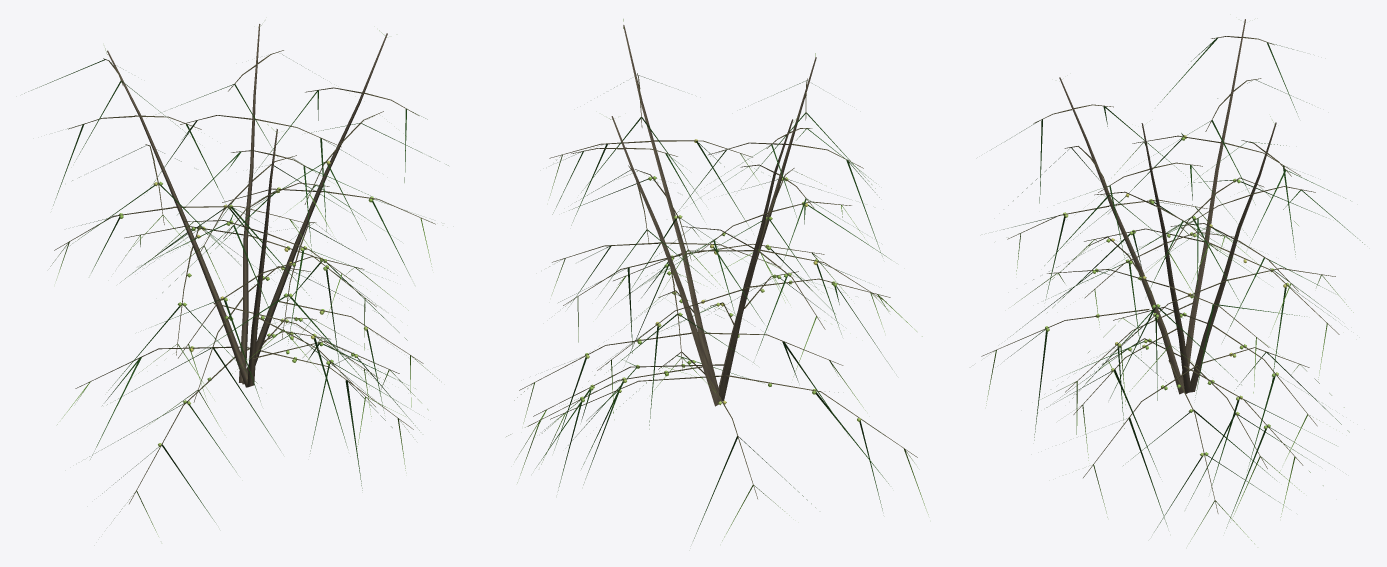
File: coffee-tree-robusta.glb
3 renders of one model, left to right at view 1: azimuth 30°, elevation 25°; view 2: azimuth 150°, elevation 25°; view 3: azimuth 270°, elevation 25°, orthographic. The views are drawn at different scales.
Parts seen in each view (by area): view 1: coffee_bark, coffee_leaves, fruit_green; view 2: coffee_bark, coffee_leaves, fruit_green; view 3: coffee_bark, coffee_leaves, fruit_green.
Boxes of the visible parts, left/top/right/bottom form: coffee_bark: left=54, top=24, right=435, bottom=503; coffee_leaves: left=24, top=25, right=448, bottom=536; fruit_green: left=119, top=160, right=373, bottom=446; coffee_bark: left=519, top=25, right=917, bottom=498; coffee_leaves: left=506, top=19, right=928, bottom=540; fruit_green: left=580, top=139, right=860, bottom=421; coffee_bark: left=981, top=19, right=1339, bottom=513; coffee_leaves: left=986, top=37, right=1364, bottom=543; fruit_green: left=1045, top=135, right=1289, bottom=456.
Size of the model in its own units: 2.12 by 2.37 by 2.09.
Materials: 3 (2 with a texture image).
